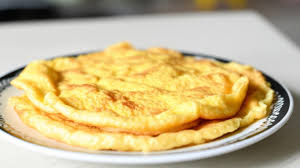Telur dadar: (11, 41, 252, 134)
